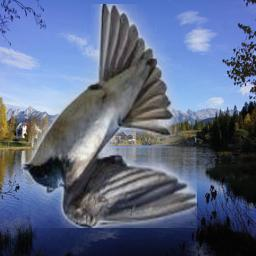Swallow: (23, 4, 197, 228)
